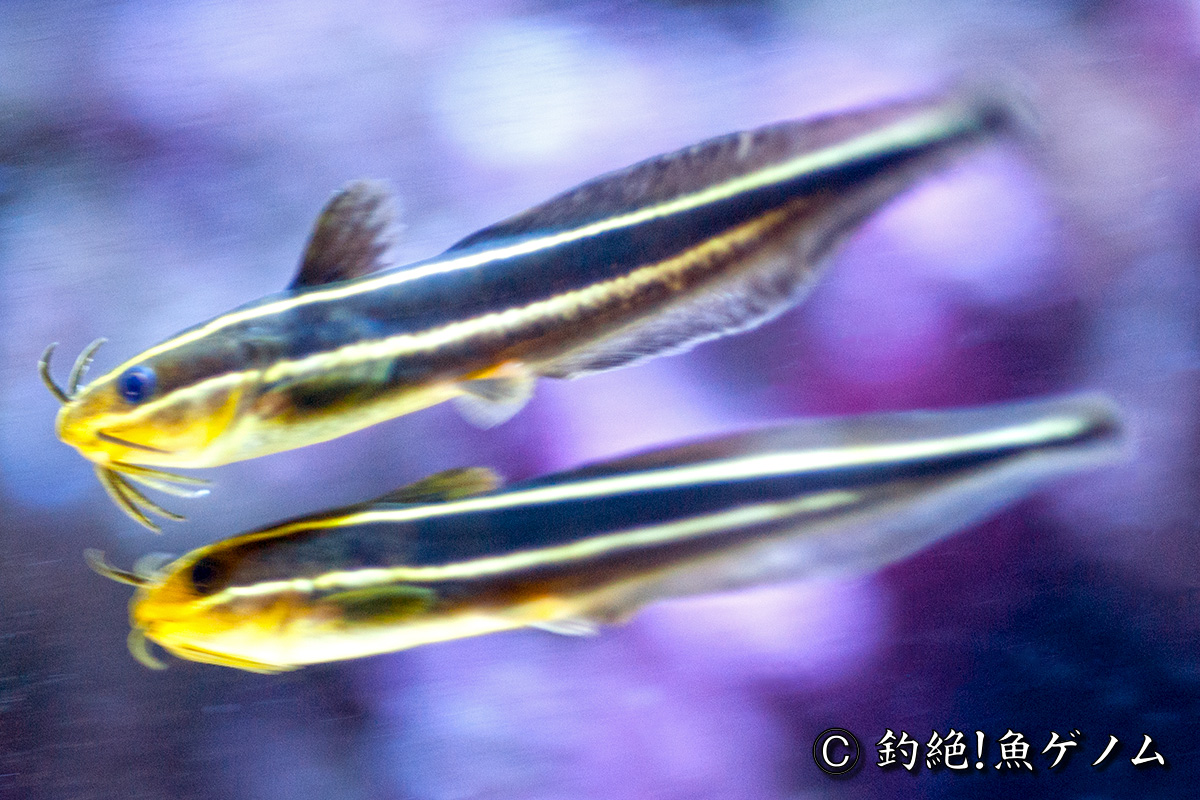gonzui: (49, 71, 1099, 483), (99, 380, 1138, 738)
